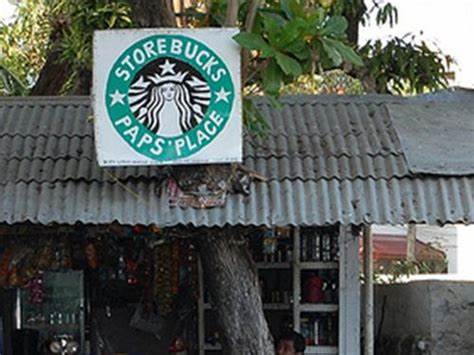starbucks Fake: (98, 31, 241, 162)
